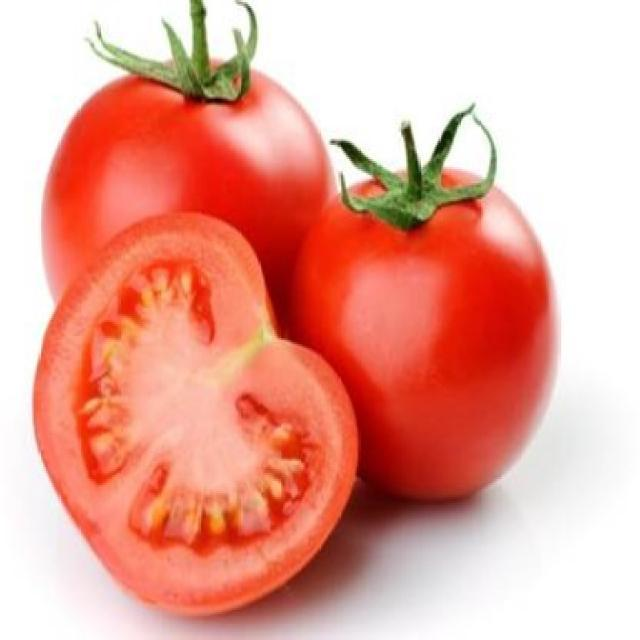kirmizi: (38, 38, 554, 606)
